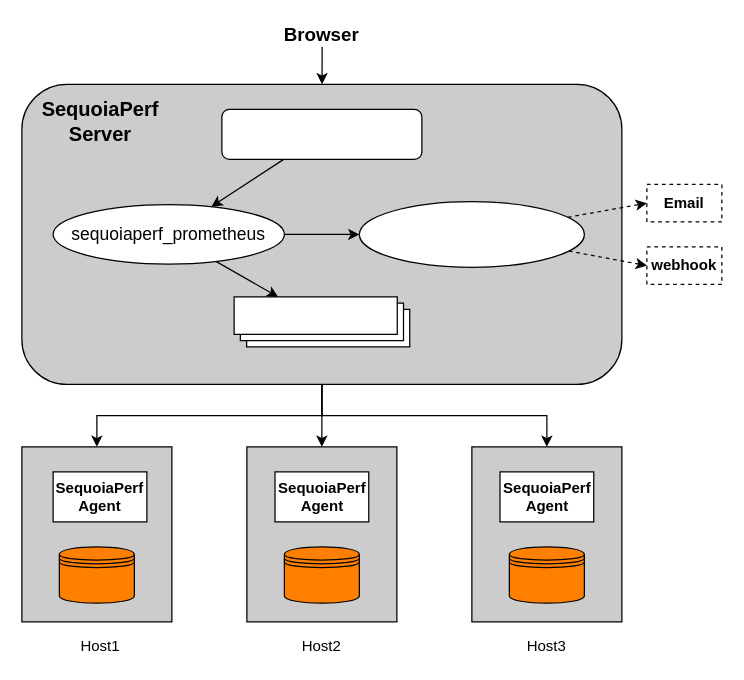
Some shapes in this 744 by 680 pixel diagram are drawn without their labels. Each missing label, with the centre of its shape:
"exporters" belongs at point 321,321.
"sequoiaperf_alertmanager" belongs at point 471,233.
"sequoiaperf_grafana" belongs at point 321,133.
